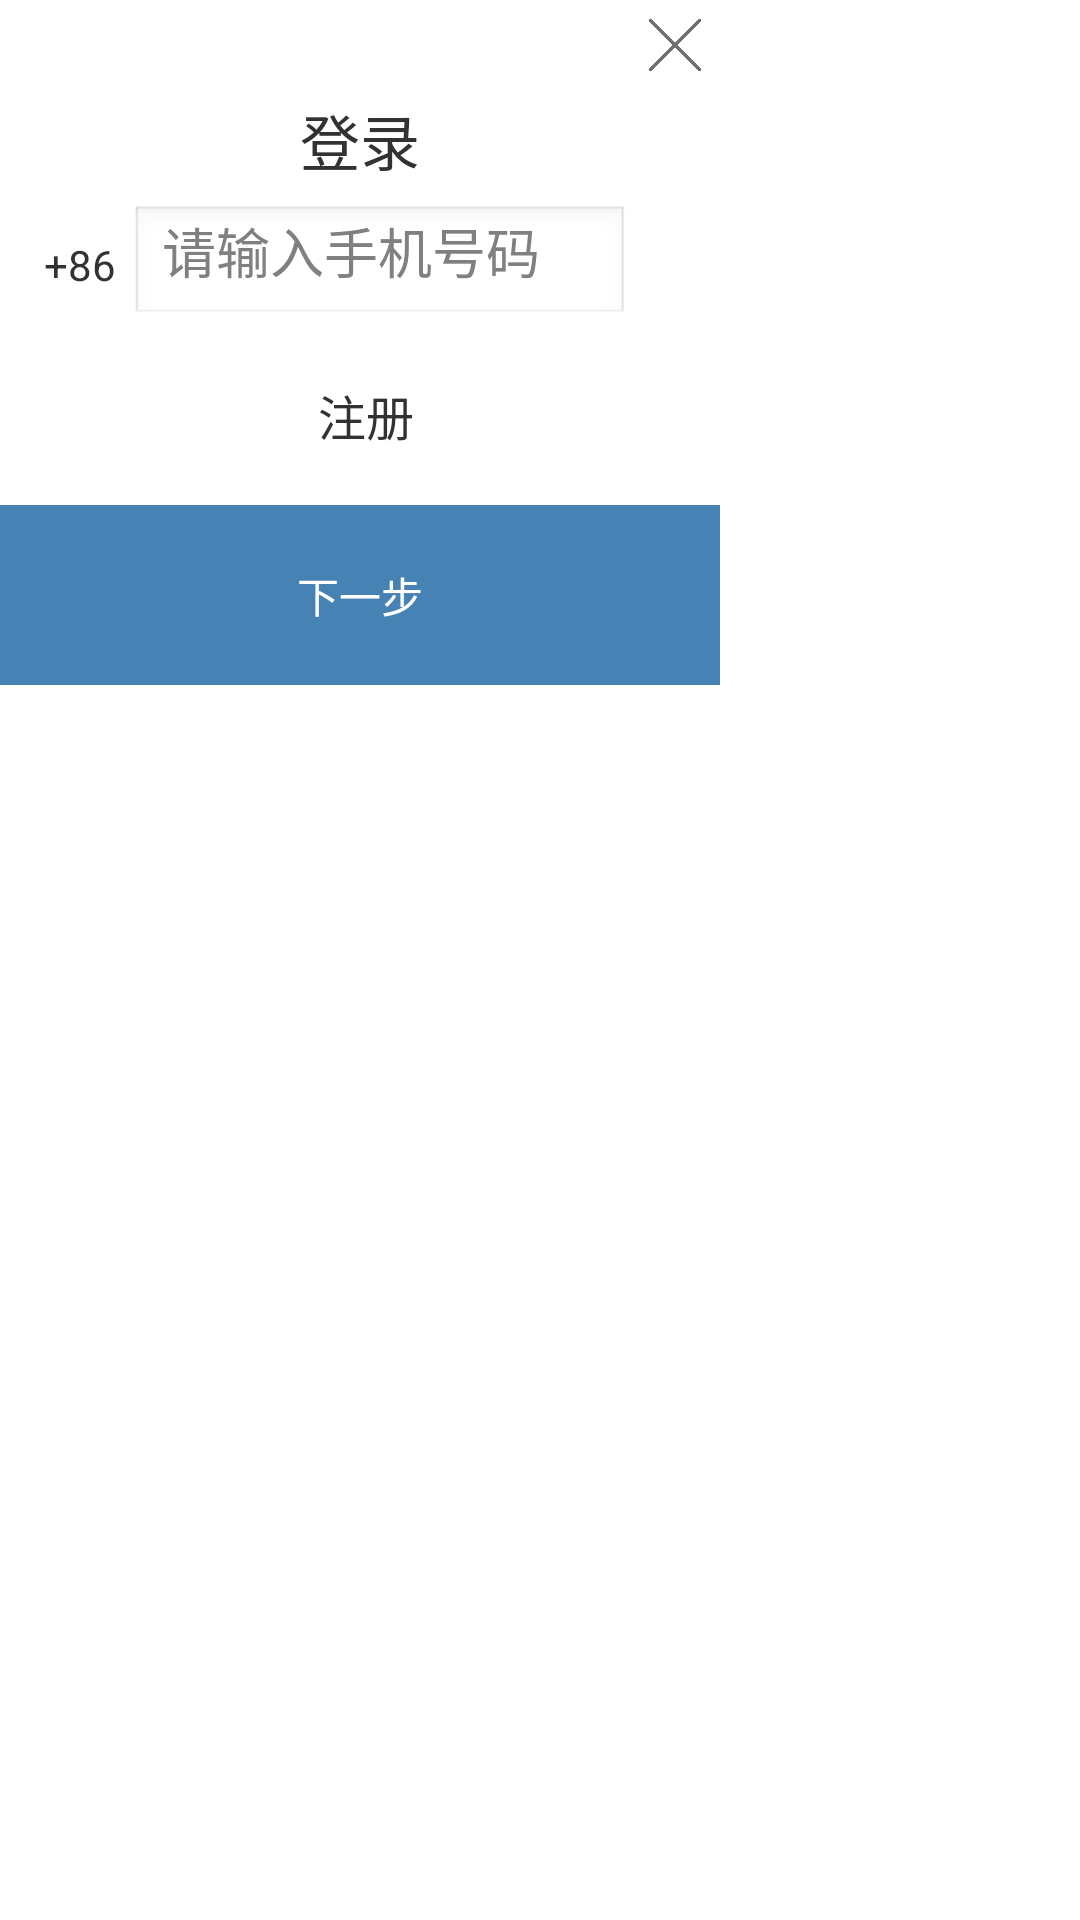

Named icons in this screenshot (1080*1920) and their centers, point (x, y):
shut: point (675, 45)
